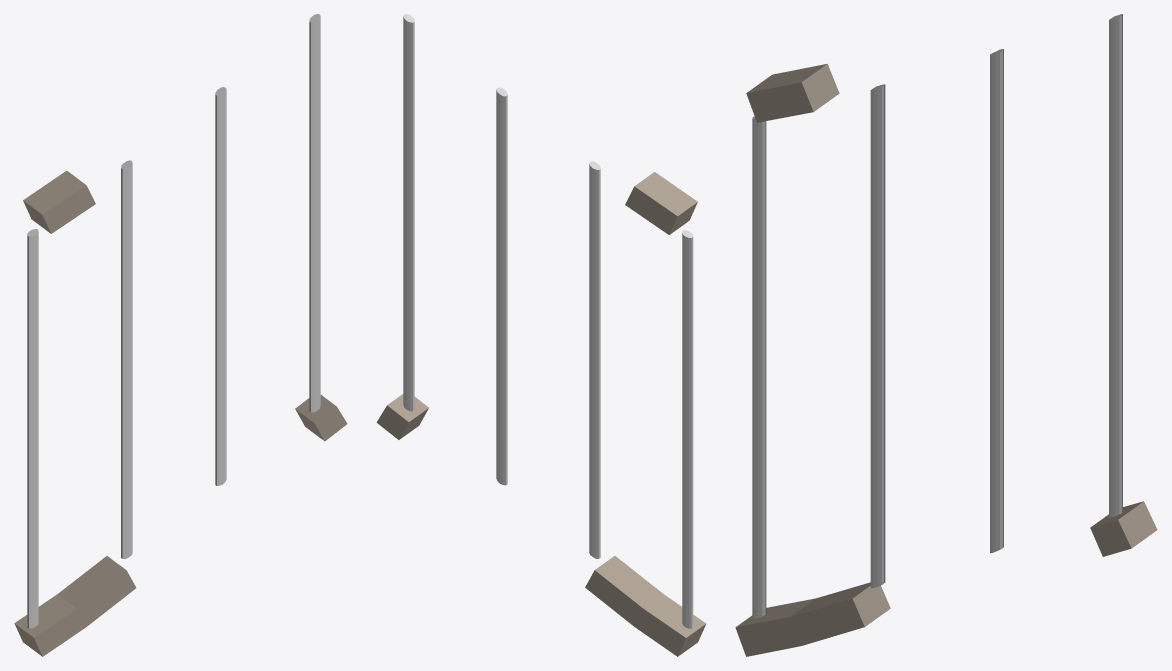
3 renders of one model, left to right at view 1: azimuth 30°, elevation 25°; view 2: azimuth 150°, elevation 25°; view 3: azimuth 330°, elevation 25°, orthographic. The views are drawn at different scales.
Bounding box in the file's own units: 0.6298 × 1.09 × 0.0751.
